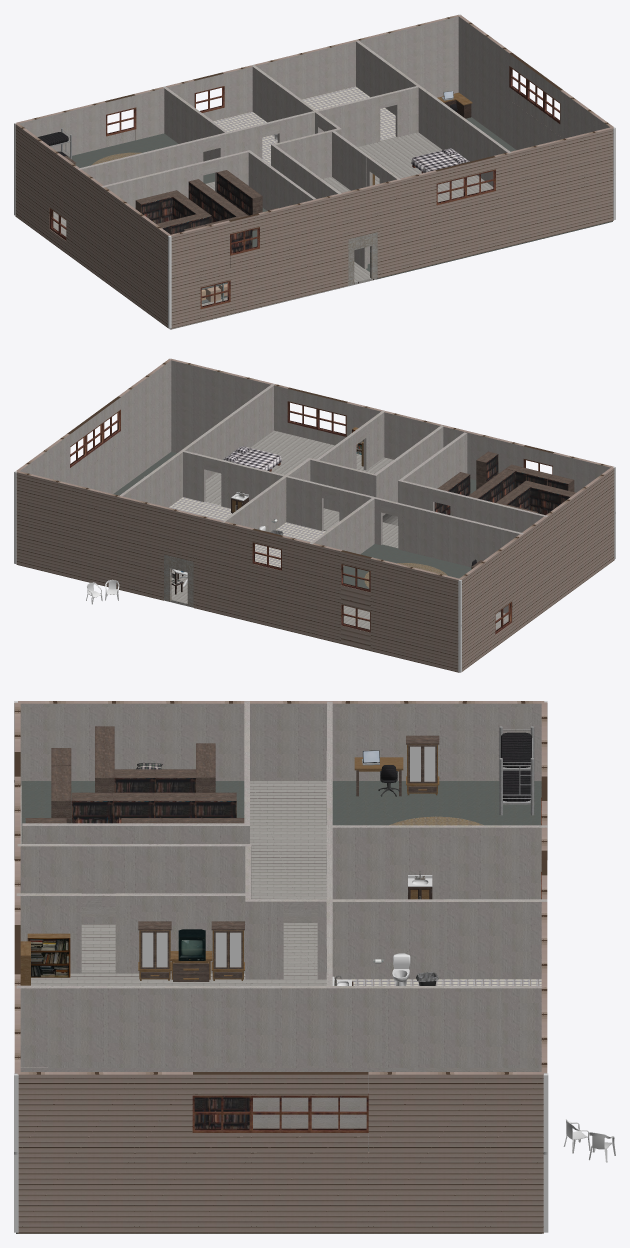
File: firstFloor.glb
The picture shows the model from 3 angles, top to bottom: view 1: azimuth 30°, elevation 25°; view 2: azimuth 150°, elevation 25°; view 3: azimuth 270°, elevation 25°; orthographic projection. The views are drawn at different scales.
Parts seen in each view (by area): view 1: 2ndfloor_innerwalls-col.007, upper_floor-col.002, outerwalls-androof-col.089, outerwalls-androof-col.078, outerwalls-androof-col.083, firstflor_floor-col, outerwalls-androof-col.084, outerwalls-androof-col.088, outerwalls-androof-col.079, outerwalls-androof-col.082, outerwalls-androof-col.076, outerwalls-androof-col.080 (+63 smaller); view 2: 2ndfloor_innerwalls-col.007, upper_floor-col.002, outerwalls-androof-col.052, outerwalls-androof-col.011, outerwalls-androof-col.055, outerwalls-androof-col.049, outerwalls-androof-col.057, outerwalls-androof-col.058, outerwalls-androof-col.060, outerwalls-androof-col.050, outerwalls-androof-col.061, outerwalls-androof-col.048 (+66 smaller); view 3: 2ndfloor_innerwalls-col.007, upper_floor-col.002, 1floor_innerwalls-col.065, outerwalls-androof-col.014, outerwalls-androof-col.015, outerwalls-androof-col.018, outerwalls-androof-col.019, outerwalls-androof-col.013, outerwalls-androof-col.020, outerwalls-androof-col.024, outerwalls-androof-col.043, outerwalls-androof-col.021 (+40 smaller).
Boxes of the visible parts, x1,y1,x2,y2 form: 2ndfloor_innerwalls-col.007: [78, 39, 510, 210]; upper_floor-col.002: [68, 86, 493, 247]; outerwalls-androof-col.089: [553, 134, 584, 188]; outerwalls-androof-col.078: [317, 192, 348, 246]; outerwalls-androof-col.083: [376, 177, 407, 231]; firstflor_floor-col: [53, 117, 612, 329]; outerwalls-androof-col.084: [406, 170, 436, 224]; outerwalls-androof-col.088: [524, 141, 554, 195]; outerwalls-androof-col.079: [288, 199, 318, 253]; outerwalls-androof-col.082: [199, 220, 229, 274]; outerwalls-androof-col.076: [583, 127, 613, 181]; outerwalls-androof-col.080: [258, 206, 289, 260]; 2ndfloor_innerwalls-col.007: [120, 384, 547, 567]; upper_floor-col.002: [169, 430, 476, 589]; outerwalls-androof-col.052: [311, 543, 342, 597]; outerwalls-androof-col.011: [16, 471, 47, 525]; outerwalls-androof-col.055: [223, 521, 253, 575]; outerwalls-androof-col.049: [400, 564, 430, 619]; outerwalls-androof-col.057: [134, 500, 165, 554]; outerwalls-androof-col.058: [105, 492, 135, 547]; outerwalls-androof-col.060: [46, 478, 76, 532]; outerwalls-androof-col.050: [370, 557, 401, 611]; outerwalls-androof-col.061: [164, 507, 194, 561]; outerwalls-androof-col.048: [429, 572, 459, 625]; 2ndfloor_innerwalls-col.007: [16, 701, 547, 1067]; upper_floor-col.002: [20, 781, 541, 985]; 1floor_innerwalls-col.065: [20, 1067, 541, 1144]; outerwalls-androof-col.014: [427, 1072, 485, 1153]; outerwalls-androof-col.015: [368, 1072, 426, 1153]; outerwalls-androof-col.018: [134, 1072, 192, 1153]; outerwalls-androof-col.019: [76, 1072, 134, 1153]; outerwalls-androof-col.013: [485, 1072, 543, 1153]; outerwalls-androof-col.020: [17, 1072, 75, 1153]; outerwalls-androof-col.024: [310, 1152, 368, 1233]; outerwalls-androof-col.043: [252, 701, 310, 780]; outerwalls-androof-col.021: [485, 1154, 543, 1233].
Size of what is drawn, in the model's own units: 30.28 by 6.91 by 20.59.
Materials: 47 (32 with a texture image).
